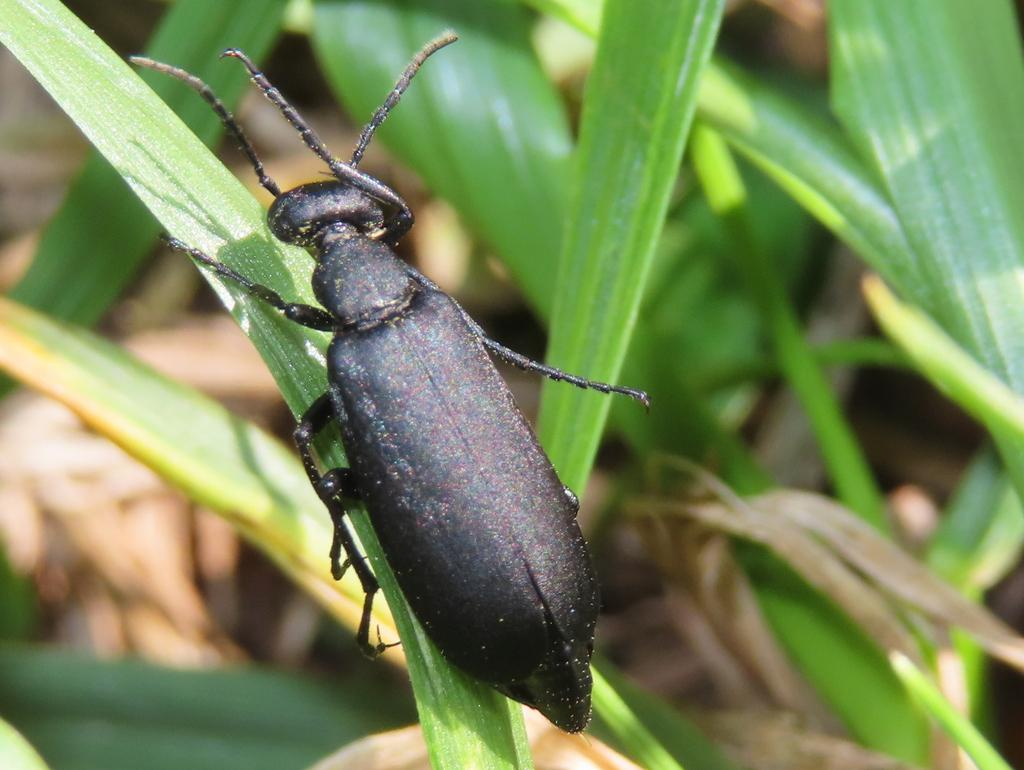blister_beetle: (99, 2, 774, 770)
